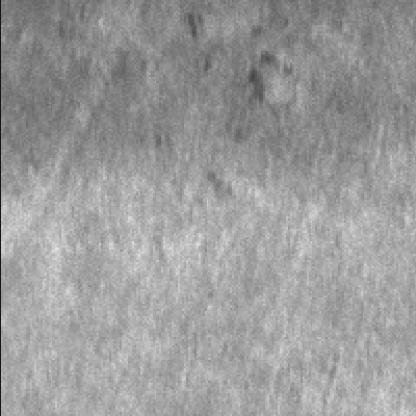rolled-in_scale: (183, 13, 297, 162)
